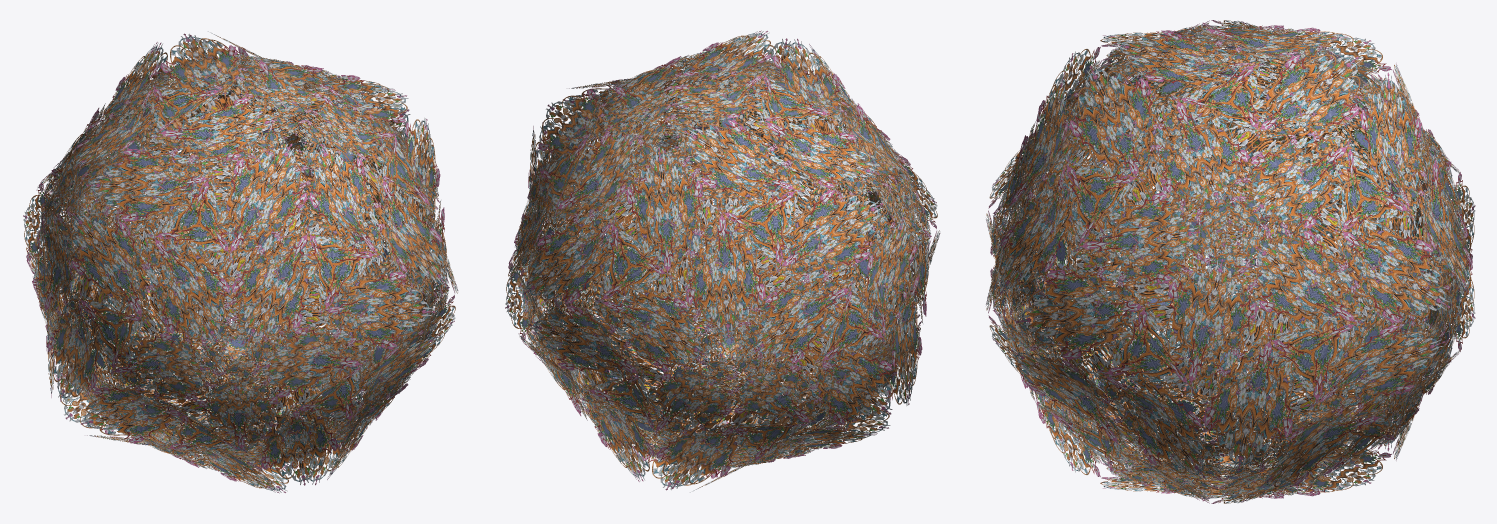
File: 8MedialPentagonalHexecontahedron.gltf
The picture shows the model from 3 angles, left to right: view 1: azimuth 30°, elevation 25°; view 2: azimuth 150°, elevation 25°; view 3: azimuth 270°, elevation 25°; orthographic projection. The views are drawn at different scales.
Visible parts, largest first — view 1: MedialPentagonalHexecontahedron8; view 2: MedialPentagonalHexecontahedron8; view 3: MedialPentagonalHexecontahedron8.
Boxes of the visible parts, bbox=[...] form: MedialPentagonalHexecontahedron8: bbox=[23, 31, 458, 493]; MedialPentagonalHexecontahedron8: bbox=[505, 30, 940, 492]; MedialPentagonalHexecontahedron8: bbox=[986, 20, 1475, 503].
Bounding box in the file's own units: 2.46 × 2.46 × 2.46.
1 material, 1 textured.
